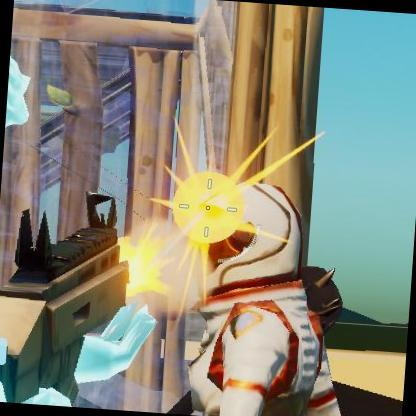person: (175, 192, 341, 416)
